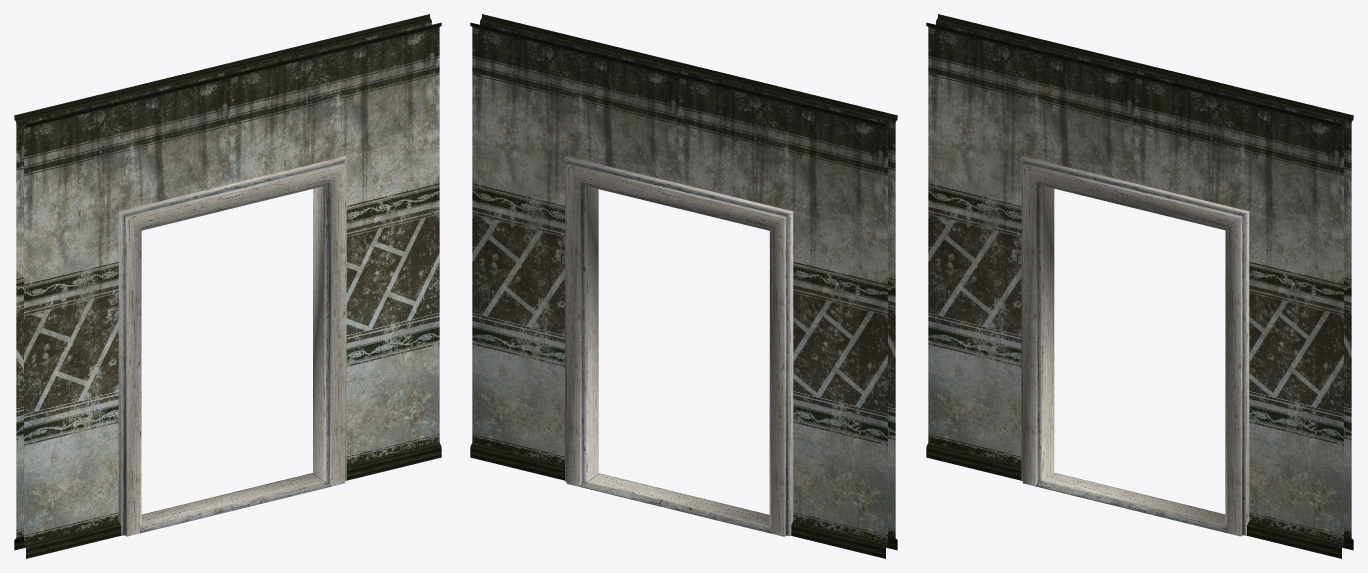
File: waitingroom_reception_damaged_flat_doorway.dae
The picture shows the model from 3 angles, left to right: view 1: azimuth 30°, elevation 25°; view 2: azimuth 150°, elevation 25°; view 3: azimuth 330°, elevation 25°; orthographic projection.
Visible parts, largest first — view 1: polySurface170; view 2: polySurface170; view 3: polySurface170.
Boxes of the visible parts, box(x1,y1,x2,y2) form: polySurface170: box(14, 14, 441, 558); polySurface170: box(470, 14, 897, 558); polySurface170: box(926, 14, 1353, 558).
Bounding box in the file's own units: 4 × 4 × 0.279.
